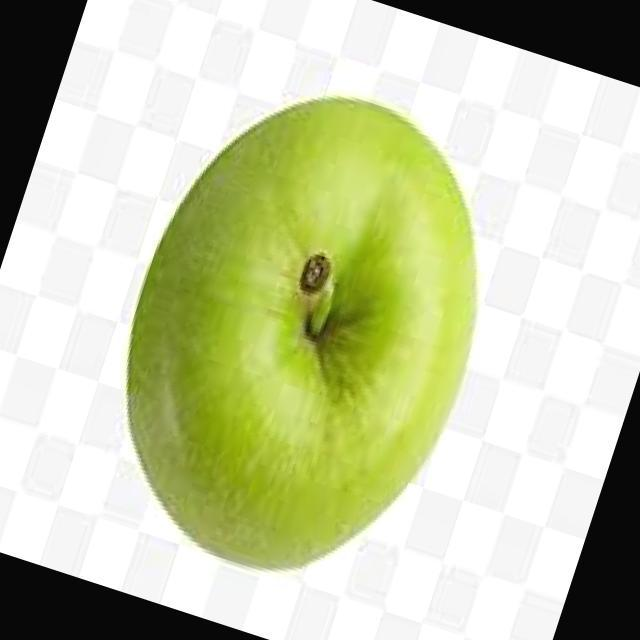Green Apple: (125, 94, 479, 574)
